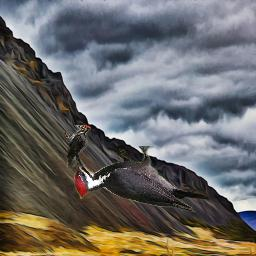Woodpecker: (74, 146, 209, 212), (64, 125, 91, 169)
